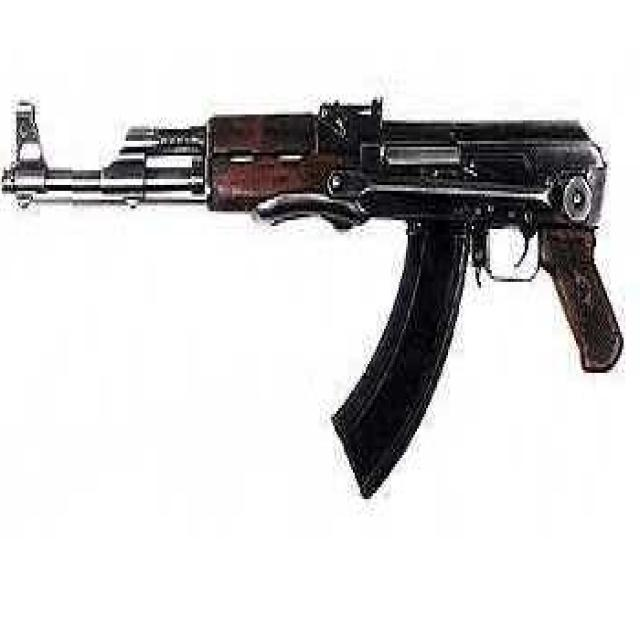heavyweapon: (5, 92, 615, 503)
